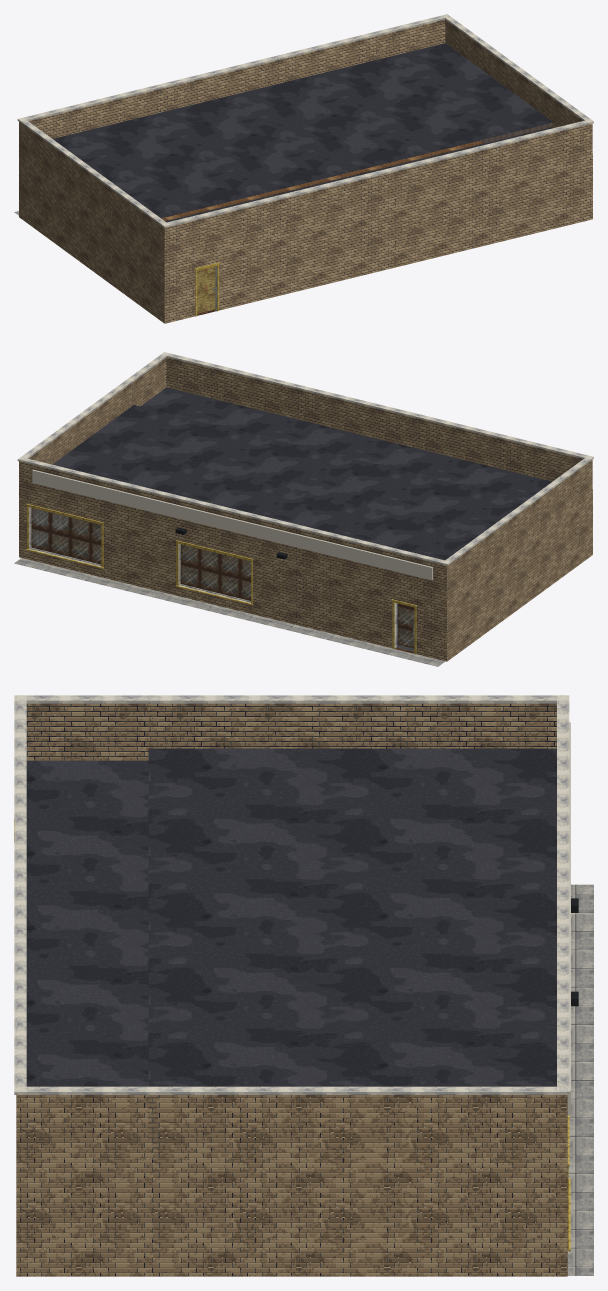
File: COM_Storefront_D.glb
3 views of the same model, one above another, from view 1: azimuth 30°, elevation 25°; view 2: azimuth 150°, elevation 25°; view 3: azimuth 270°, elevation 25° (orthographic). The views are drawn at different scales.
Visible parts, largest first — view 1: COM_Storefront_D_Exterior, COM_Storefront_D_Interior, INT_Door_BackExit; view 2: COM_Storefront_D_Exterior, COM_Storefront_D_Interior, INT_Door_Entrance; view 3: COM_Storefront_D_Exterior.
Boxes of the visible parts, left/top/right/bottom form: COM_Storefront_D_Exterior: left=14, top=14, right=593, bottom=323; COM_Storefront_D_Interior: left=161, top=123, right=551, bottom=221; INT_Door_BackExit: left=197, top=266, right=215, bottom=313; COM_Storefront_D_Exterior: left=14, top=352, right=593, bottom=666; COM_Storefront_D_Interior: left=32, top=509, right=413, bottom=647; INT_Door_Entrance: left=396, top=603, right=414, bottom=651; COM_Storefront_D_Exterior: left=14, top=695, right=593, bottom=1276.
Size of what is drawn, in the model's own units: 21.28 by 4.67 by 13.15.
16 materials, 16 textured.
